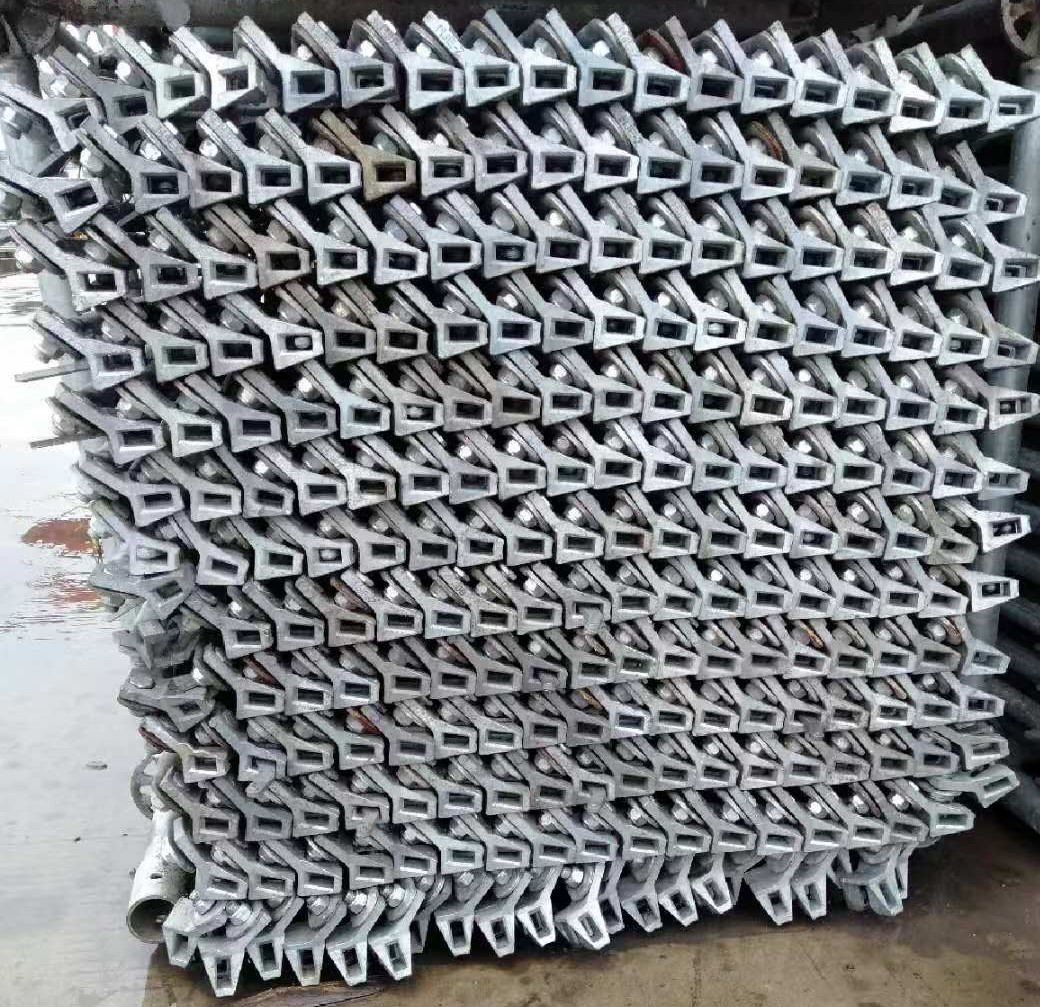sigma_steel: (272, 58, 337, 119), (39, 177, 106, 236), (38, 93, 104, 152), (406, 61, 466, 117), (238, 158, 303, 209), (335, 58, 394, 113), (461, 57, 519, 110), (791, 72, 847, 126), (60, 264, 127, 309), (477, 236, 538, 285), (205, 59, 261, 112), (520, 58, 576, 110), (130, 163, 187, 214), (76, 348, 142, 392), (97, 86, 156, 135), (685, 67, 745, 115), (153, 68, 208, 120), (535, 230, 591, 281), (133, 257, 195, 303), (311, 240, 369, 289), (251, 243, 310, 291), (358, 156, 417, 203), (120, 485, 183, 529), (842, 80, 895, 132), (581, 61, 635, 112), (304, 157, 360, 206), (740, 70, 797, 118), (529, 147, 588, 193), (420, 150, 474, 200), (580, 150, 640, 195), (471, 144, 527, 192), (836, 164, 893, 211), (689, 155, 747, 201), (371, 243, 429, 289), (638, 67, 692, 116), (985, 89, 1040, 137), (183, 166, 240, 212), (106, 422, 164, 467), (838, 242, 893, 289), (197, 259, 257, 302), (424, 238, 481, 283), (151, 340, 208, 385), (539, 314, 596, 358), (893, 92, 945, 140), (205, 337, 263, 380), (157, 690, 213, 734), (636, 154, 694, 196), (983, 330, 1037, 375), (691, 236, 746, 280), (791, 316, 847, 359), (939, 91, 989, 139), (741, 159, 794, 204), (162, 420, 223, 459), (885, 248, 943, 289), (878, 461, 932, 505), (203, 944, 245, 1000), (593, 230, 643, 277), (743, 241, 795, 286), (373, 326, 427, 369), (433, 318, 487, 361), (502, 527, 556, 570), (937, 253, 992, 295), (781, 458, 836, 500), (643, 236, 693, 282), (646, 523, 702, 564), (791, 161, 842, 206), (188, 484, 245, 524), (593, 313, 646, 356), (321, 325, 375, 367), (969, 188, 1027, 227), (368, 932, 416, 979), (592, 382, 643, 426), (742, 386, 794, 429), (539, 387, 592, 429), (143, 575, 196, 617), (267, 616, 327, 653), (991, 253, 1040, 298), (280, 940, 325, 989), (565, 904, 610, 953), (892, 170, 943, 213), (933, 400, 987, 440), (494, 462, 545, 504), (836, 393, 888, 434), (885, 395, 937, 436), (295, 479, 347, 520), (353, 534, 405, 575), (195, 550, 251, 588), (695, 387, 743, 431), (487, 320, 542, 358), (889, 327, 941, 367), (229, 414, 282, 453), (977, 463, 1026, 505), (409, 534, 458, 576), (286, 405, 336, 446), (792, 244, 843, 284), (821, 751, 879, 786), (639, 457, 691, 496), (842, 320, 892, 360), (883, 526, 934, 565), (919, 585, 970, 624), (749, 317, 795, 360), (541, 462, 593, 500), (328, 936, 370, 983), (341, 403, 389, 444), (452, 530, 505, 567), (739, 524, 793, 560), (646, 318, 697, 356), (398, 471, 449, 509), (737, 460, 788, 498), (216, 625, 273, 659), (935, 462, 979, 506), (865, 873, 907, 919), (755, 880, 796, 927), (602, 524, 651, 563), (324, 614, 377, 650), (334, 734, 387, 770), (549, 530, 605, 564), (175, 748, 229, 783), (346, 474, 397, 511), (741, 584, 792, 621), (243, 934, 284, 980), (645, 387, 693, 426), (378, 668, 433, 702), (592, 456, 641, 494), (831, 588, 881, 625), (695, 457, 740, 498), (493, 390, 539, 430), (792, 392, 838, 432), (518, 902, 558, 948), (387, 729, 434, 768), (480, 911, 519, 958), (284, 740, 332, 778), (243, 483, 295, 518), (231, 686, 283, 721), (376, 606, 425, 643), (660, 885, 703, 927), (692, 872, 734, 915), (252, 548, 305, 582), (960, 734, 1013, 768), (698, 586, 748, 622), (930, 531, 976, 570), (191, 869, 247, 901), (831, 461, 882, 496), (294, 862, 345, 897), (444, 397, 492, 434), (779, 754, 831, 788), (522, 777, 579, 808), (291, 800, 340, 836), (934, 181, 978, 221), (905, 694, 960, 726), (242, 865, 297, 897), (284, 680, 332, 716), (333, 675, 381, 711), (187, 808, 239, 841), (837, 529, 886, 564), (421, 606, 470, 641), (437, 913, 475, 958), (687, 704, 742, 735), (608, 586, 654, 623), (563, 714, 613, 748), (471, 663, 524, 695), (566, 656, 617, 689), (966, 640, 1008, 680), (244, 805, 292, 840), (703, 524, 747, 562), (470, 604, 519, 638), (435, 782, 484, 816), (450, 469, 495, 506), (518, 600, 564, 636), (870, 643, 916, 679), (781, 646, 831, 679), (735, 701, 785, 734), (483, 839, 533, 872), (740, 647, 787, 682), (159, 921, 194, 968), (959, 689, 1007, 723), (796, 876, 832, 921), (475, 723, 524, 756), (649, 758, 698, 791), (345, 856, 394, 889), (436, 841, 485, 874), (519, 719, 569, 751), (756, 824, 806, 856), (661, 827, 714, 857), (829, 646, 873, 682), (913, 642, 961, 675), (657, 644, 702, 679), (652, 591, 701, 623), (876, 586, 922, 620), (631, 894, 670, 934), (613, 649, 660, 682), (740, 757, 787, 790), (621, 826, 668, 859), (483, 784, 531, 816), (712, 823, 760, 855), (646, 703, 695, 734), (434, 724, 477, 759), (429, 668, 476, 700), (786, 590, 836, 620), (927, 806, 975, 837), (392, 790, 437, 823), (889, 812, 930, 848), (869, 695, 915, 727), (804, 821, 850, 853), (870, 747, 913, 781), (387, 850, 439, 878), (609, 708, 651, 742), (527, 837, 578, 865), (695, 758, 741, 789), (913, 749, 960, 779), (848, 817, 892, 848), (823, 702, 868, 732), (612, 768, 659, 796), (702, 651, 744, 682), (575, 833, 619, 862), (596, 894, 627, 933), (410, 916, 431, 956)
sigma_steel_blocked: (265, 328, 323, 371), (983, 391, 1040, 434), (388, 398, 446, 439), (935, 328, 991, 370), (975, 513, 1033, 552), (122, 539, 180, 577), (964, 574, 1020, 613), (696, 313, 747, 354), (301, 541, 353, 578), (793, 522, 838, 563), (559, 595, 610, 631), (229, 752, 284, 783), (338, 796, 391, 828), (569, 771, 617, 805), (780, 702, 825, 737), (521, 661, 568, 693)
